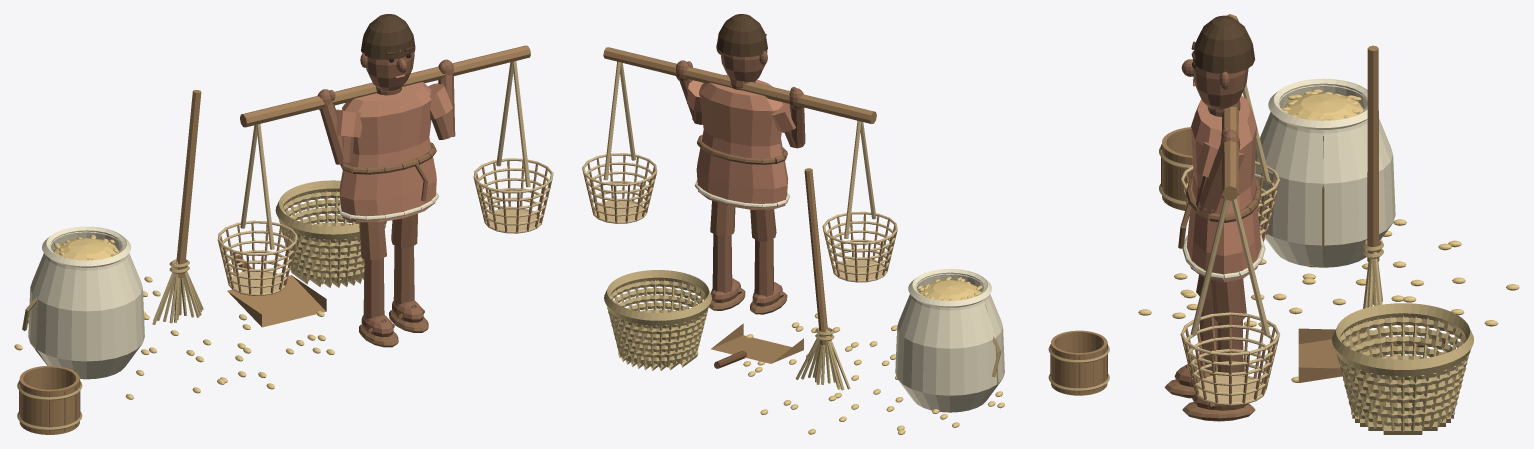
3 renders of one model, left to right at view 1: azimuth 30°, elevation 25°; view 2: azimuth 150°, elevation 25°; view 3: azimuth 270°, elevation 25°, orthographic. The views are drawn at different scales.
Visible parts, largest first — view 1: BA-0097 batched; view 2: BA-0097 batched; view 3: BA-0097 batched.
Part boxes in pixels (left/top/right/bottom): BA-0097 batched: left=14, top=14, right=553, bottom=434; BA-0097 batched: left=582, top=14, right=1109, bottom=434; BA-0097 batched: left=1138, top=14, right=1519, bottom=434.
Size of the model in its own units: 3.1 by 1.72 by 1.53.
